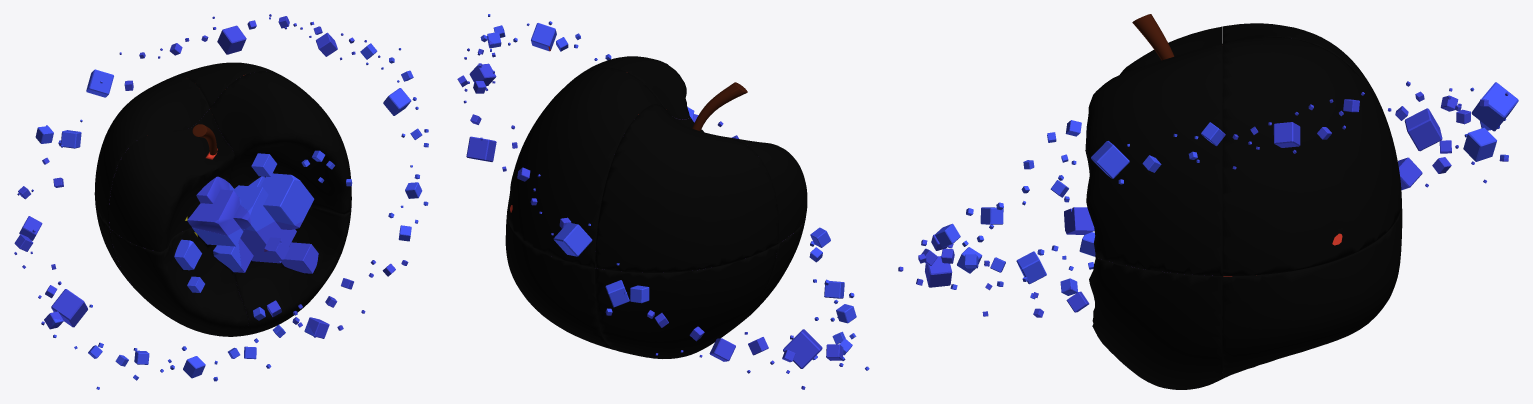
Rendered from cube_isaac newton_apple 8 magic cubes 截面材质分割.fbx.
The picture shows the model from 3 angles, left to right: view 1: azimuth 30°, elevation 25°; view 2: azimuth 150°, elevation 25°; view 3: azimuth 270°, elevation 25°; orthographic projection. The views are drawn at different scales.
Parts seen in each view (by area): view 1: 立方体.0002, 立方体.0001, 立方体.0005, 立方体.0006, 立方体.0004, 立方体.0003, 立方体.0008; view 2: 立方体.0004, 立方体.0003, 立方体.0008, 立方体.0007, 立方体.0001, 立方体.0002, 立方体.0005; view 3: 立方体.0003, 立方体.0002, 立方体.0006, 立方体.0007, 立方体.0004, 立方体.0001, 立方体.0005, 立方体.0008.
Boxes of the visible parts, x1=… form: 立方体.0002: x1=210, y1=43, x2=428, y2=241; 立方体.0001: x1=109, y1=109, x2=250, y2=251; 立方体.0005: x1=52, y1=227, x2=314, y2=389; 立方体.0006: x1=228, y1=207, x2=408, y2=338; 立方体.0004: x1=35, y1=69, x2=209, y2=227; 立方体.0003: x1=119, y1=14, x2=380, y2=107; 立方体.0008: x1=14, y1=143, x2=136, y2=336; 立方体.0004: x1=553, y1=104, x2=778, y2=312; 立方体.0003: x1=457, y1=40, x2=664, y2=267; 立方体.0008: x1=595, y1=244, x2=843, y2=389; 立方体.0007: x1=505, y1=215, x2=616, y2=350; 立方体.0001: x1=666, y1=82, x2=807, y2=243; 立方体.0002: x1=480, y1=14, x2=694, y2=120; 立方体.0005: x1=728, y1=216, x2=869, y2=370; 立方体.0003: x1=1222, y1=37, x2=1508, y2=275; 立方体.0002: x1=935, y1=43, x2=1222, y2=275; 立方体.0006: x1=898, y1=207, x2=1222, y2=389; 立方体.0007: x1=1222, y1=205, x2=1402, y2=378; 立方体.0004: x1=1222, y1=23, x2=1518, y2=161; 立方体.0001: x1=1120, y1=14, x2=1222, y2=74; 立方体.0005: x1=950, y1=232, x2=1095, y2=299; 立方体.0008: x1=1398, y1=140, x2=1508, y2=190.
Size of the model in its own units: 327 by 234 by 366.
